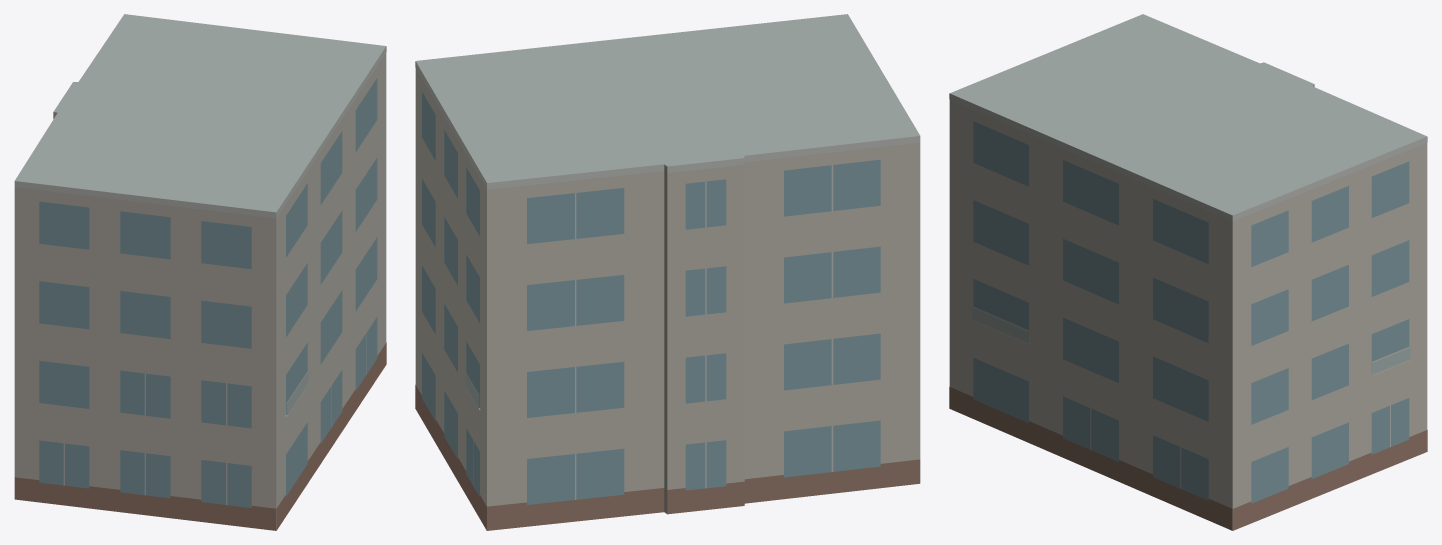
File: survey-upis-32597824.glb
The picture shows the model from 3 angles, left to right: view 1: azimuth 30°, elevation 25°; view 2: azimuth 150°, elevation 25°; view 3: azimuth 270°, elevation 25°; orthographic projection. The views are drawn at different scales.
Parts seen in each view (by area): view 1: survey-upis-32597824.tmp; view 2: survey-upis-32597824.tmp; view 3: survey-upis-32597824.tmp.
Boxes of the visible parts, left/top/right/bottom form: survey-upis-32597824.tmp: left=14, top=14, right=386, bottom=530; survey-upis-32597824.tmp: left=415, top=14, right=920, bottom=530; survey-upis-32597824.tmp: left=949, top=14, right=1427, bottom=530.
Size of the model in its own units: 17.5 by 12.76 by 17.53.
